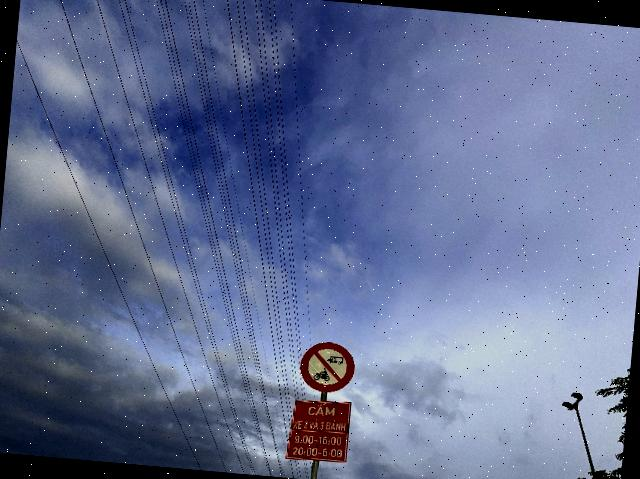cam-xe-2-banh-3-banh: (298, 339, 357, 395)
